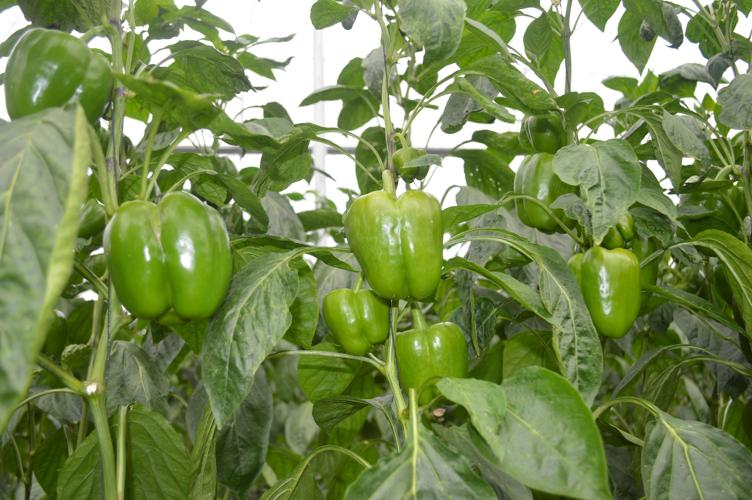BellPepper: (104, 194, 224, 324), (4, 25, 116, 129), (345, 188, 447, 297), (561, 247, 641, 336), (510, 150, 576, 229), (393, 319, 464, 392), (681, 178, 742, 246), (324, 288, 386, 353), (515, 107, 563, 151)
